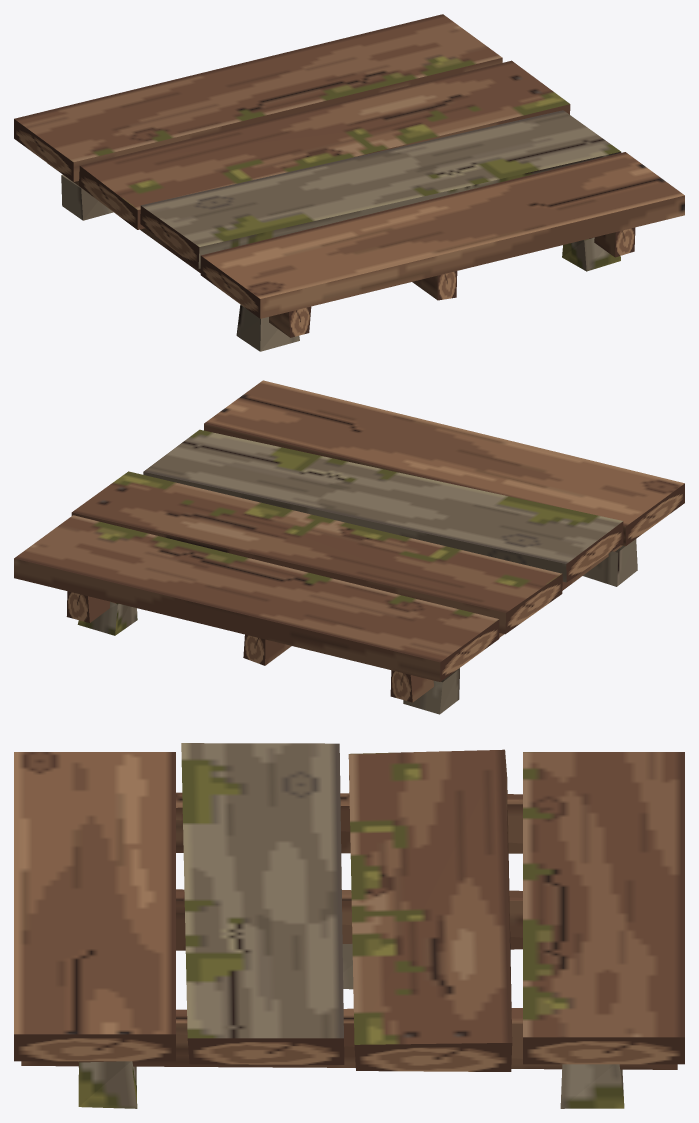
File: SM_ST11_BoardwalkCorner.fbx
3 views of the same model, one above another, from view 1: azimuth 30°, elevation 25°; view 2: azimuth 150°, elevation 25°; view 3: azimuth 270°, elevation 25° (orthographic). The views are drawn at different scales.
Visible parts, largest first — view 1: ST11_Boardwalk; view 2: ST11_Boardwalk; view 3: ST11_Boardwalk.
Part boxes in pixels (x1=…): ST11_Boardwalk: x1=14, y1=14, x2=684, y2=351; ST11_Boardwalk: x1=14, y1=380, x2=684, y2=714; ST11_Boardwalk: x1=14, y1=743, x2=684, y2=1108.
Bounding box in the file's own units: 1.84 × 0.3343 × 1.8.
